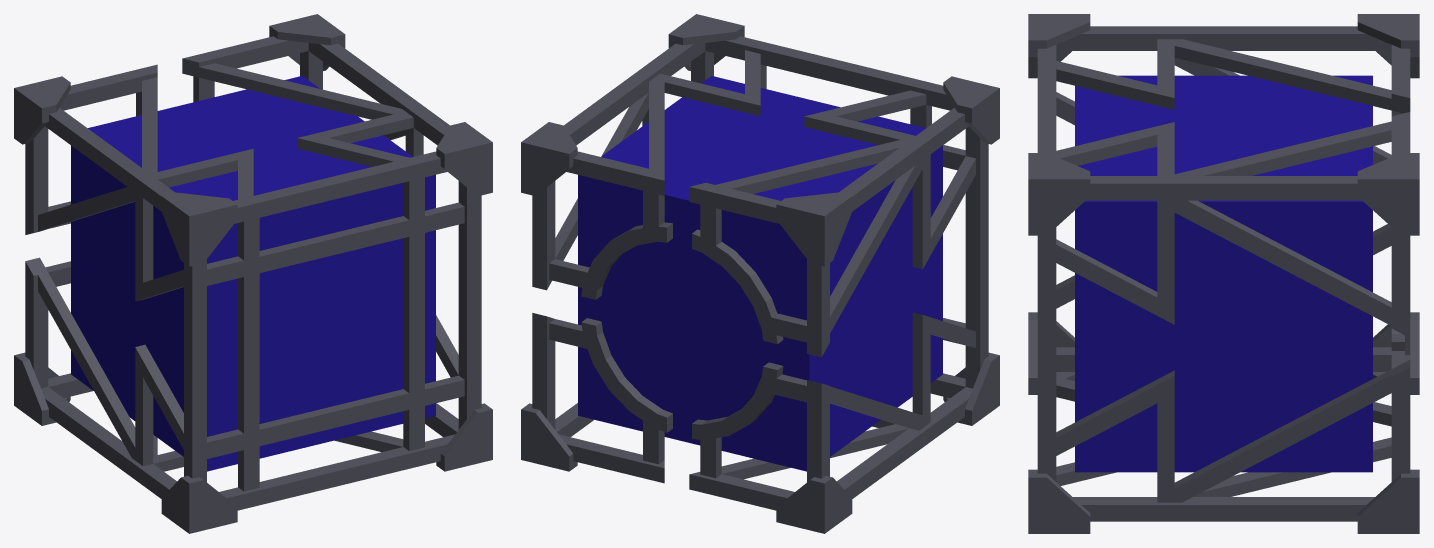
File: blue-source.glb
3 renders of one model, left to right at view 1: azimuth 30°, elevation 25°; view 2: azimuth 150°, elevation 25°; view 3: azimuth 270°, elevation 25°, orthographic. The views are drawn at different scales.
Parts seen in each view (by area): view 1: laser box; view 2: laser box; view 3: laser box.
Boxes of the visible parts, box(x1,y1,x2,y2) form: laser box: box(14, 14, 492, 533); laser box: box(521, 14, 999, 533); laser box: box(1028, 14, 1419, 533).
Size of the model in its own units: 1 by 1 by 1.
